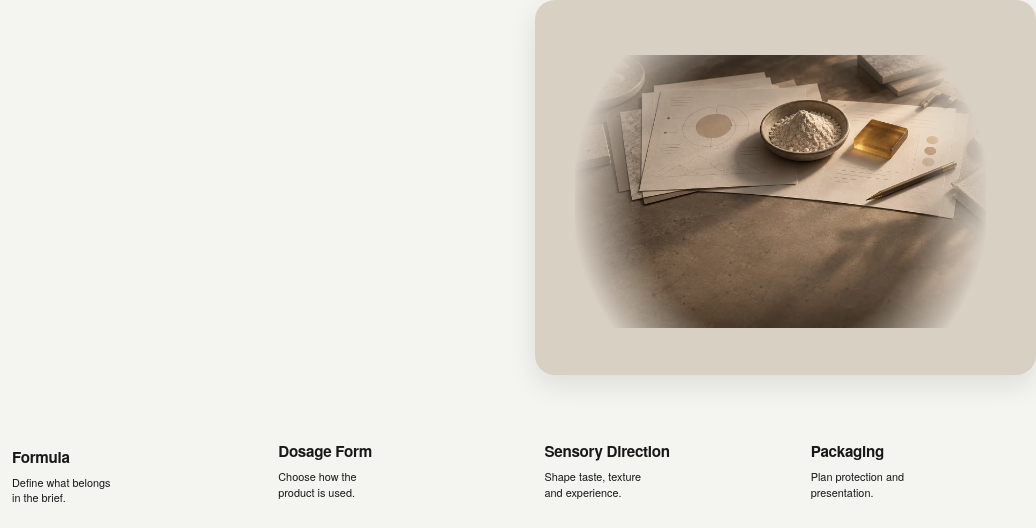
Test: supports keyboard focus and Escape
Later steps or results of the test are not shown.
Focus the button "Formula Define what belongs in the brief.": (125, 475) top-left (12, 439), bottom-right (237, 511)
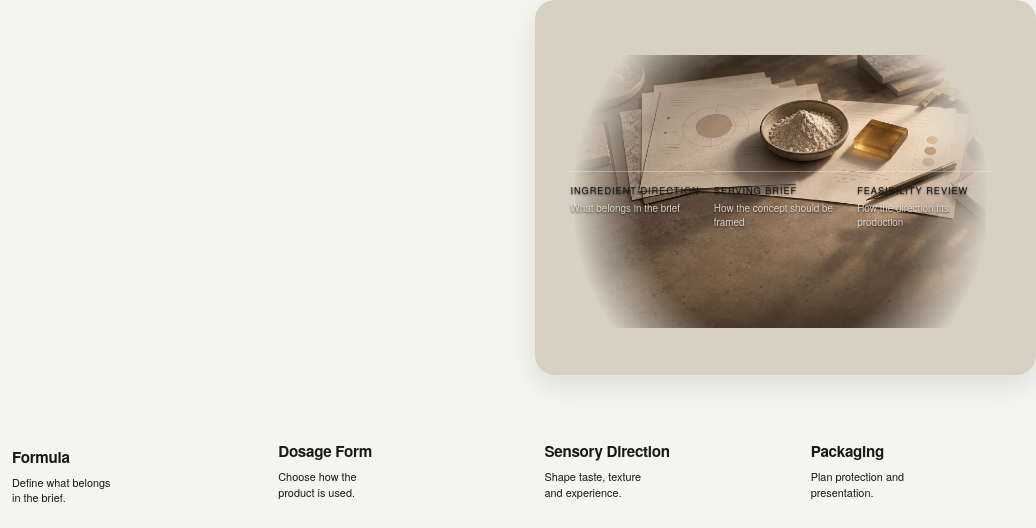
Leave the button "Formula Define what belongs in the brief.", box top-left (12, 439), bottom-right (237, 511)
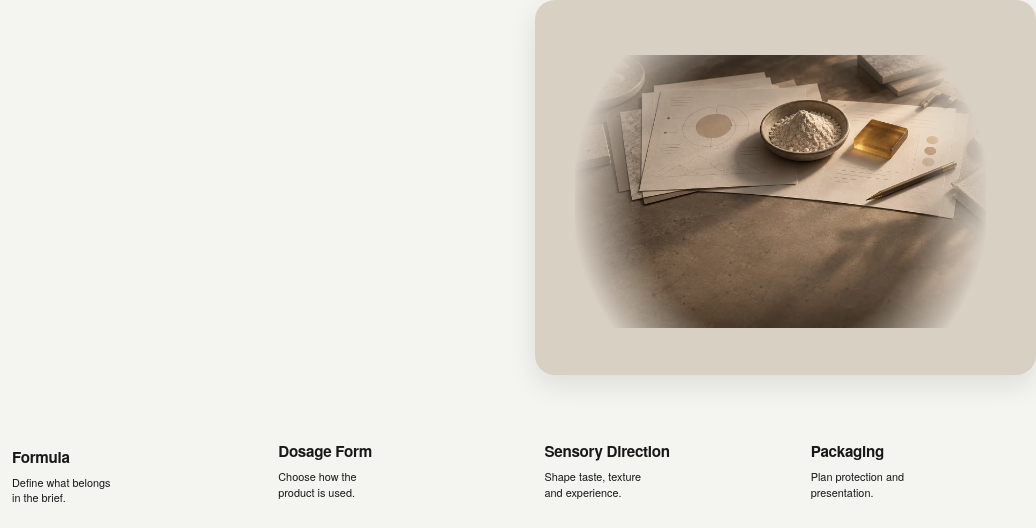
Expected: the element with test id "customization-constellation" has attribute data-customization-state="overview"
